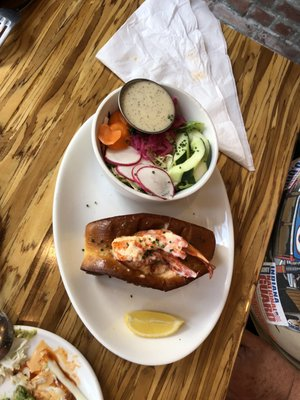sushi: (90, 79, 219, 204)
